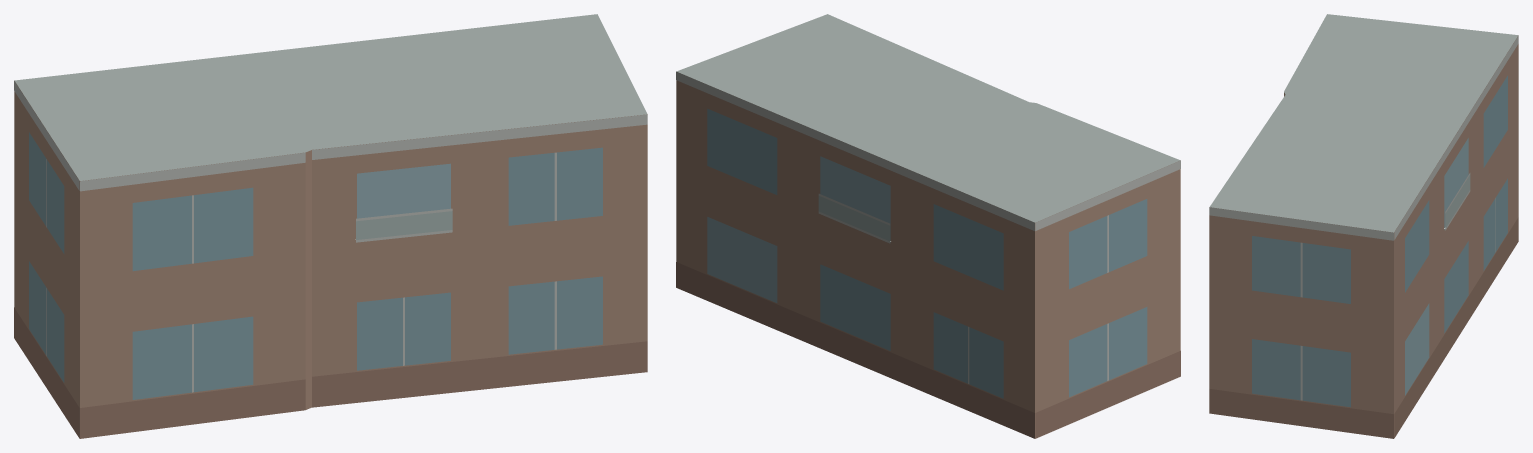
File: survey-upis-33001704.glb
3 views of the same model, side by side, from view 1: azimuth 30°, elevation 25°; view 2: azimuth 150°, elevation 25°; view 3: azimuth 270°, elevation 25° (orthographic). The views are drawn at different scales.
Parts seen in each view (by area): view 1: survey-upis-33001704.tmp; view 2: survey-upis-33001704.tmp; view 3: survey-upis-33001704.tmp.
Part boxes in pixels (x1,y1,x2,y2): survey-upis-33001704.tmp: (14,14,647,438); survey-upis-33001704.tmp: (676,14,1180,438); survey-upis-33001704.tmp: (1209,14,1518,438).
Size of the model in its own units: 13.87 by 6.1 by 8.29.
